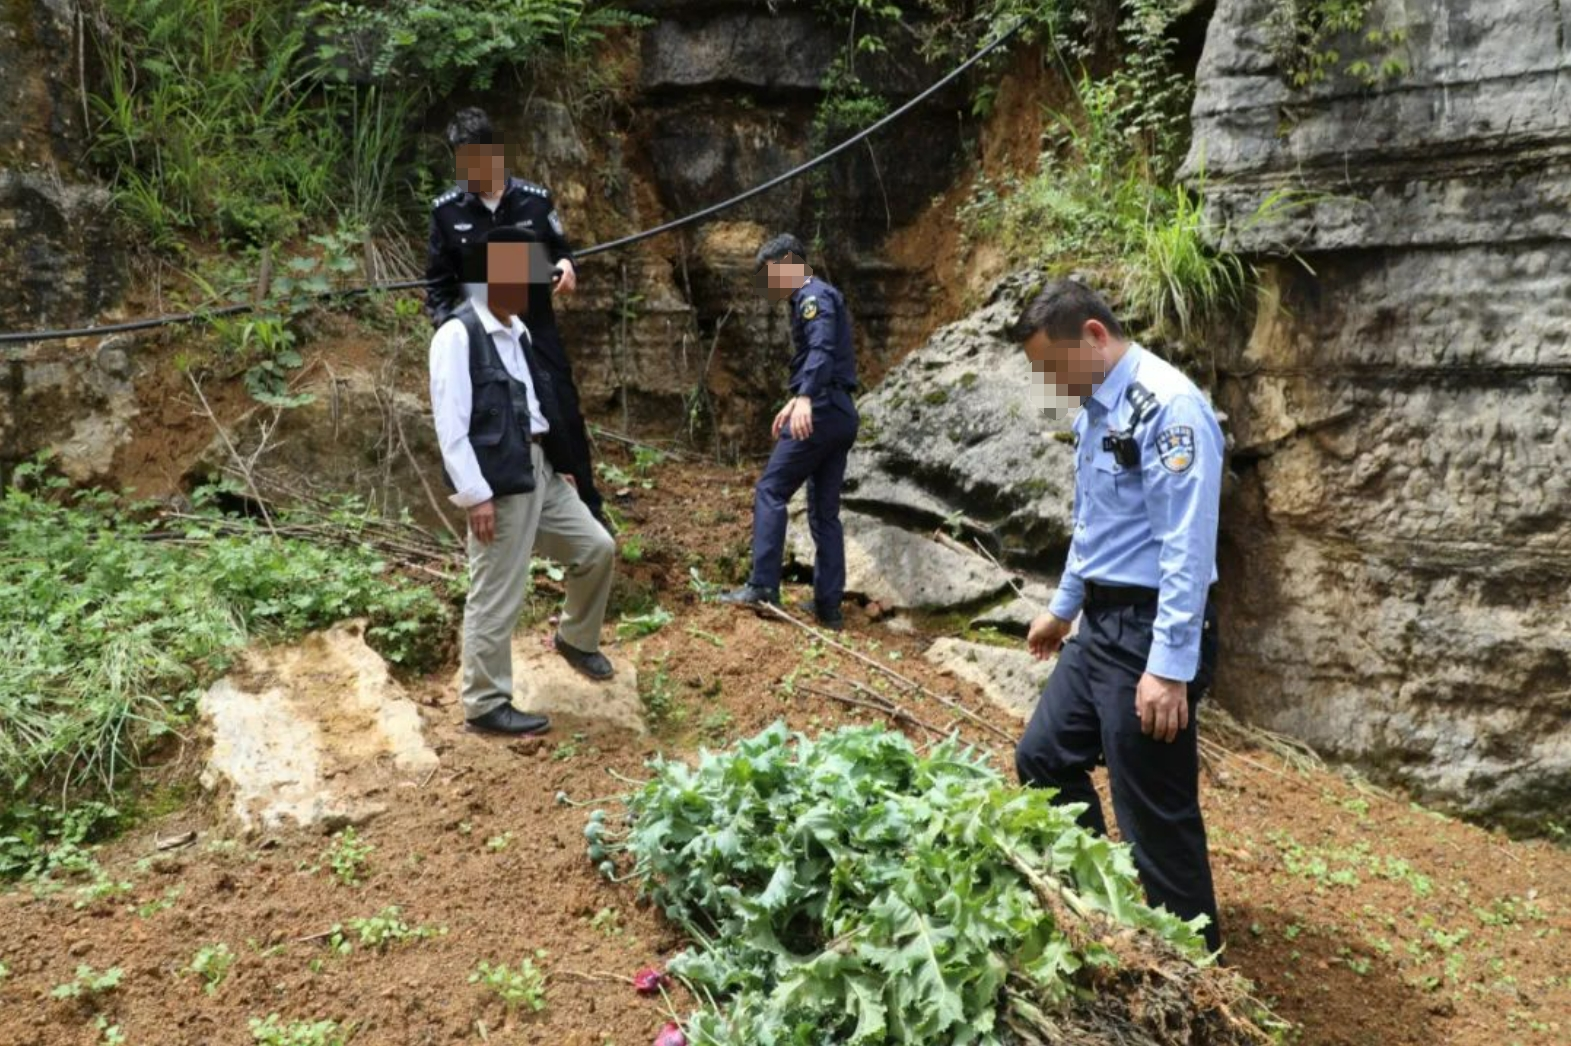Poppy: (551, 661, 1249, 1040)
